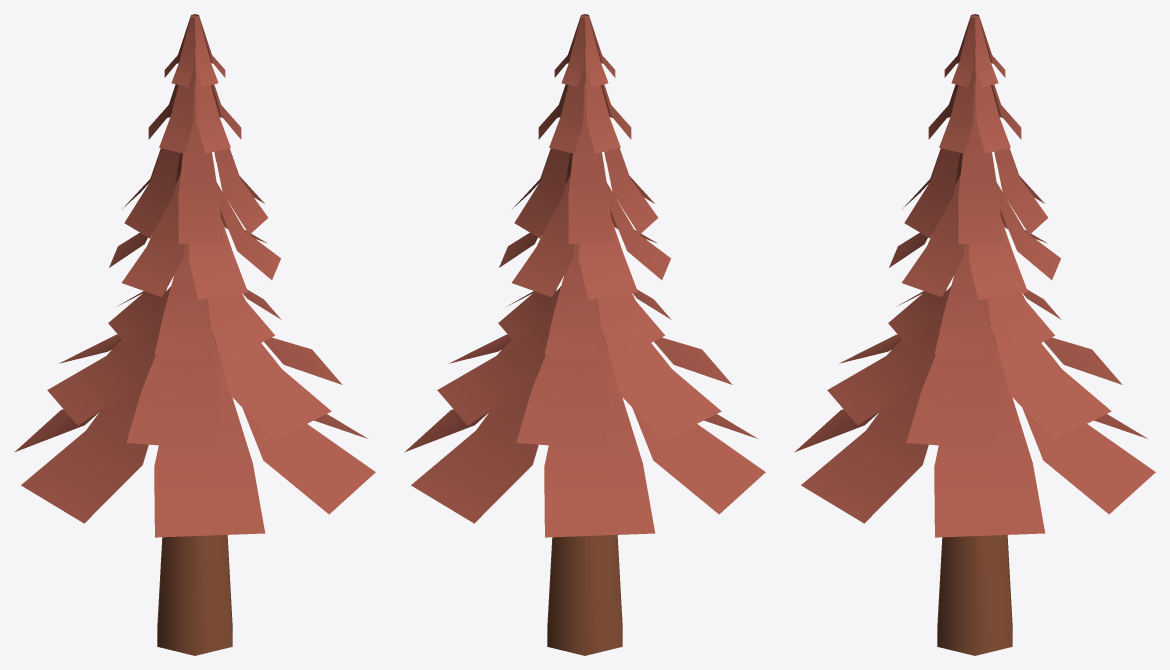
File: cozy_lake_tree_dense_red_002.glb
3 views of the same model, side by side, from view 1: azimuth 30°, elevation 25°; view 2: azimuth 150°, elevation 25°; view 3: azimuth 270°, elevation 25° (orthographic).
Visible parts, largest first — view 1: Tree_Dense_Red_002; view 2: Tree_Dense_Red_002; view 3: Tree_Dense_Red_002.
Boxes of the visible parts, x1,y1,x2,y2 form: Tree_Dense_Red_002: (14,14,375,655); Tree_Dense_Red_002: (404,14,765,655); Tree_Dense_Red_002: (794,14,1155,655).
Size of the model in its own units: 56.94 by 110 by 57.88.
